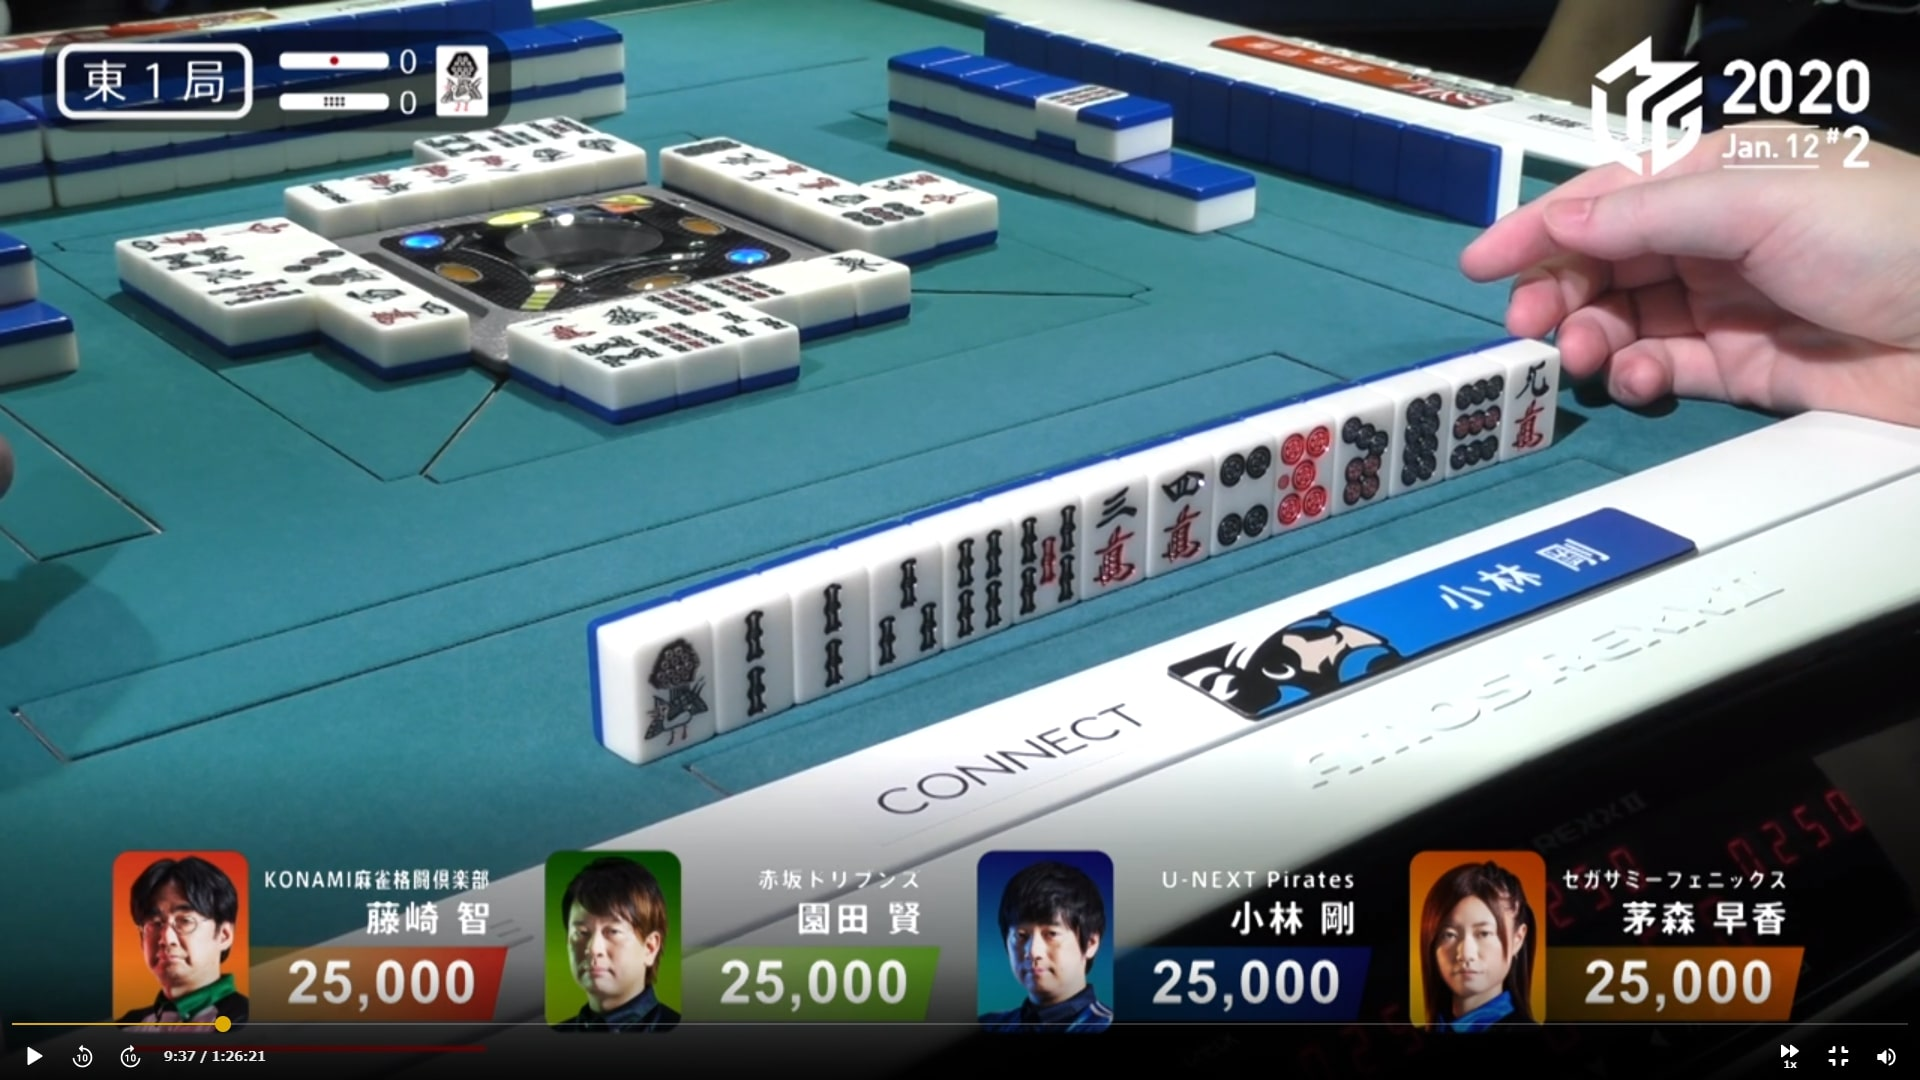1s: (632, 626, 717, 756)
2s: (793, 571, 870, 694), (715, 604, 789, 731)
3m: (1087, 480, 1145, 591)
3s: (864, 553, 943, 667)
4m: (1145, 467, 1204, 567)
4p: (1215, 440, 1274, 549)
4s: (947, 522, 1009, 640)
5pr: (1274, 423, 1331, 522)
5s: (1015, 501, 1077, 618)
7p: (1337, 401, 1390, 505)
8p: (1393, 386, 1444, 491)
9m: (1509, 349, 1560, 456)
9p: (1455, 365, 1499, 469)
hand_ton_1: (51, 33, 258, 127)
round_0: (272, 83, 422, 117)
team_pirates: (1168, 587, 1468, 721)
